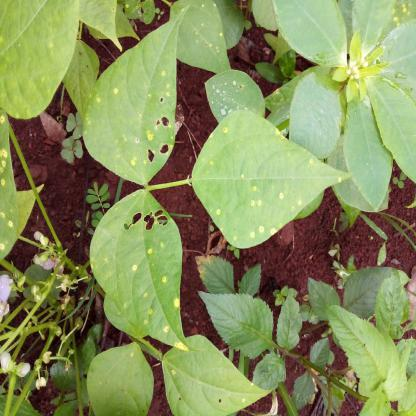Beans_Rust: (194, 115, 346, 238), (84, 8, 186, 178), (92, 192, 194, 352), (159, 0, 231, 76), (0, 104, 20, 265), (380, 0, 416, 40)
